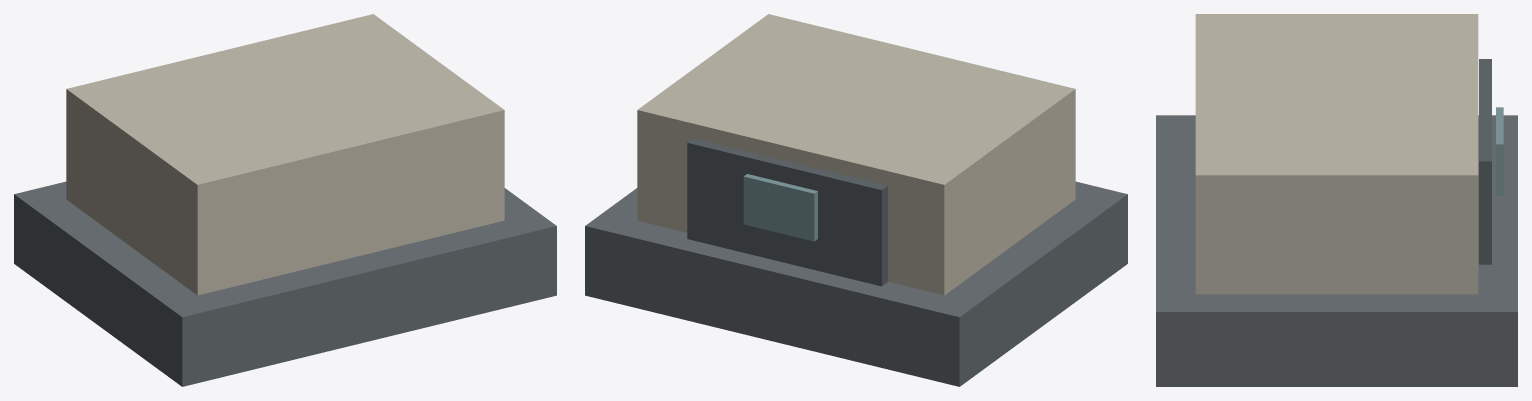
Rendered from iz3_environment_coastal_rock_01.glb.
The picture shows the model from 3 angles, left to right: view 1: azimuth 30°, elevation 25°; view 2: azimuth 150°, elevation 25°; view 3: azimuth 270°, elevation 25°; orthographic projection. The views are drawn at different scales.
Parts seen in each view (by area): view 1: cabinet, base; view 2: cabinet, base, panel, display; view 3: cabinet, base, panel, display.
Boxes of the visible parts, x1=… form: cabinet: x1=66, y1=14, x2=504, y2=295; base: x1=14, y1=181, x2=556, y2=386; cabinet: x1=637, y1=14, x2=1075, y2=295; base: x1=585, y1=181, x2=1127, y2=386; panel: x1=687, y1=138, x2=887, y2=286; display: x1=743, y1=174, x2=817, y2=241; cabinet: x1=1195, y1=14, x2=1478, y2=294; base: x1=1156, y1=115, x2=1517, y2=386; panel: x1=1479, y1=59, x2=1491, y2=264; display: x1=1496, y1=107, x2=1503, y2=195.
Size of the model in its own units: 1.8 by 0.828 by 1.4.
